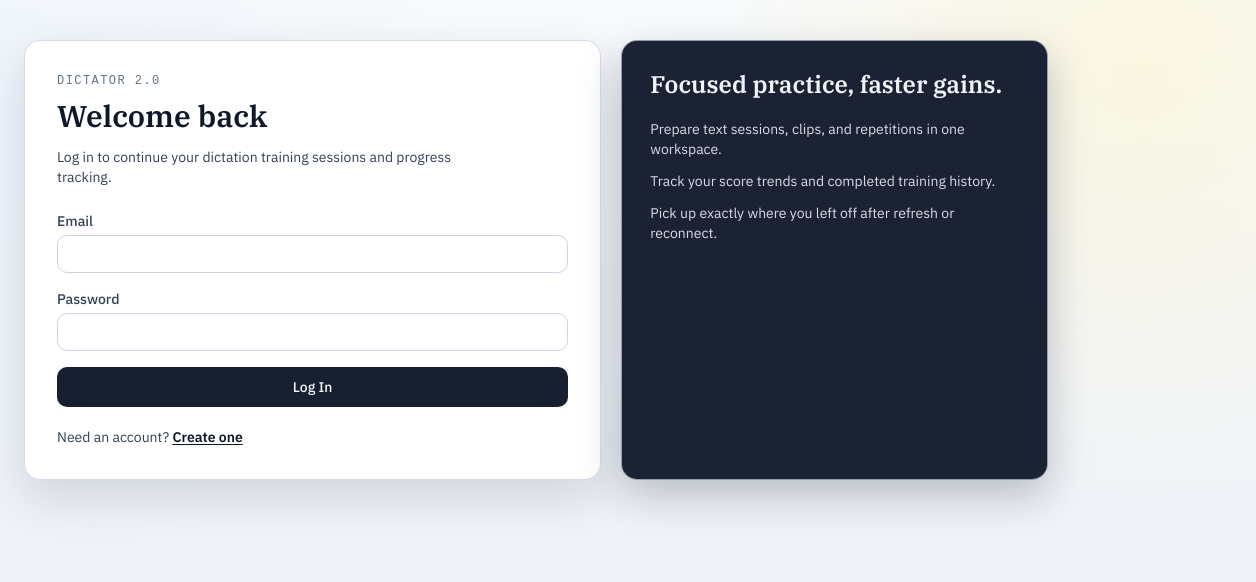
Scenario: auth pages › validates login empty fields before submit
Click the button "Log In": (313, 386) [57,366,568,406]
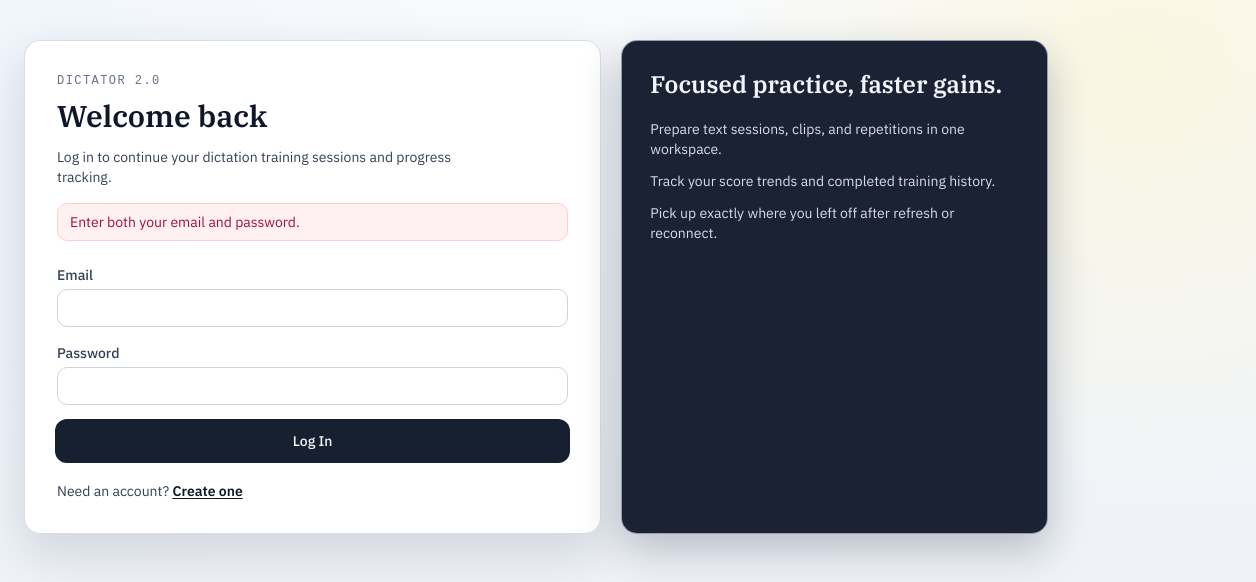
Check: the message reads "Enter both your email and password.", box [70,212,300,230]
